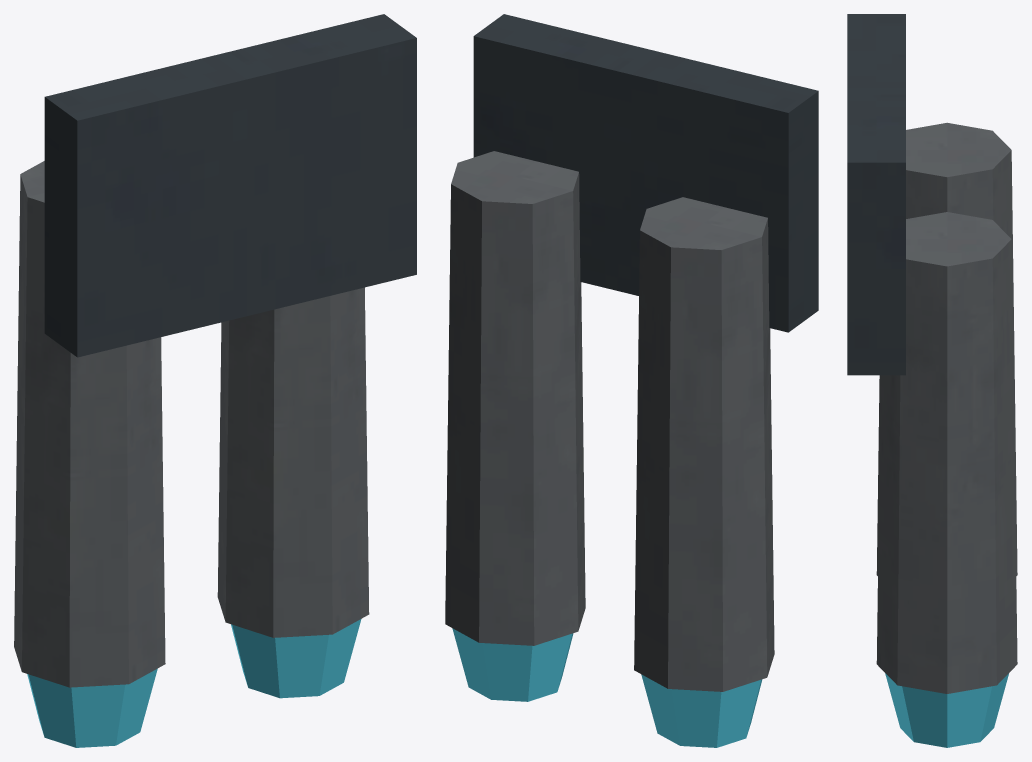
Rendered from acc_jetpack_small.glb.
The picture shows the model from 3 angles, left to right: view 1: azimuth 30°, elevation 25°; view 2: azimuth 150°, elevation 25°; view 3: azimuth 270°, elevation 25°; orthographic projection. The views are drawn at different scales.
Visible parts, largest first — view 1: acc_jetpack_small; view 2: acc_jetpack_small; view 3: acc_jetpack_small.
Part boxes in pixels (x1,y1,x2,y2): acc_jetpack_small: (14, 14, 416, 747); acc_jetpack_small: (445, 14, 818, 747); acc_jetpack_small: (847, 14, 1017, 747).
Size of the model in its own units: 0.3 by 0.56 by 0.145.
3 materials, 2 textured.
